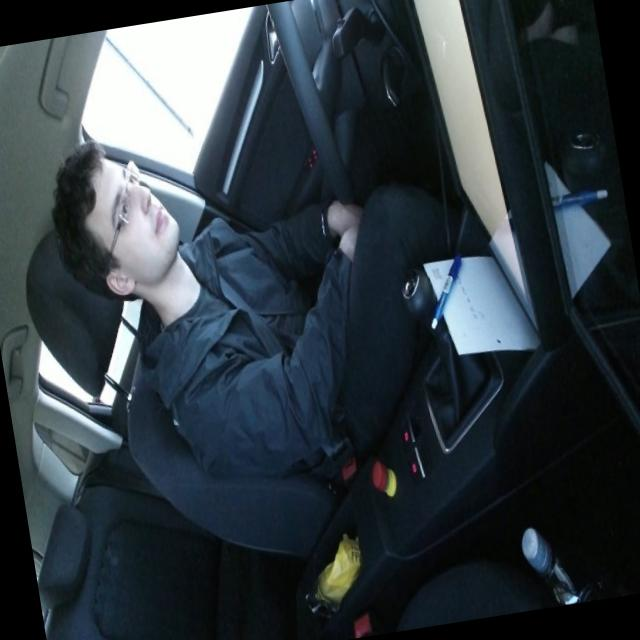pen: (420, 250, 472, 330)
